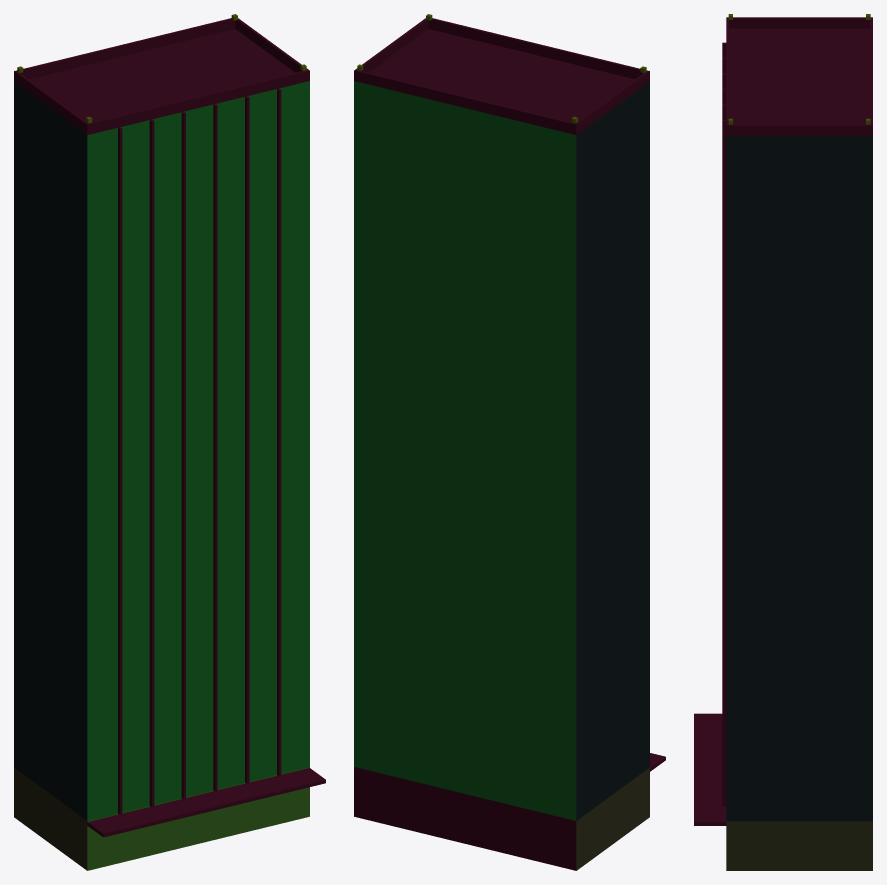
The model's file is slab_d.lod2.glb.
3 renders of one model, left to right at view 1: azimuth 30°, elevation 25°; view 2: azimuth 150°, elevation 25°; view 3: azimuth 270°, elevation 25°, orthographic.
Visible parts, largest first — view 1: slab_d.lod2; view 2: slab_d.lod2; view 3: slab_d.lod2.
Boxes of the visible parts, left/top/right/bottom form: slab_d.lod2: left=14, top=14, right=325, bottom=870; slab_d.lod2: left=354, top=14, right=665, bottom=870; slab_d.lod2: left=694, top=14, right=872, bottom=870.
Bounding box in the file's own units: 22.4 × 72.2 × 15.6.
